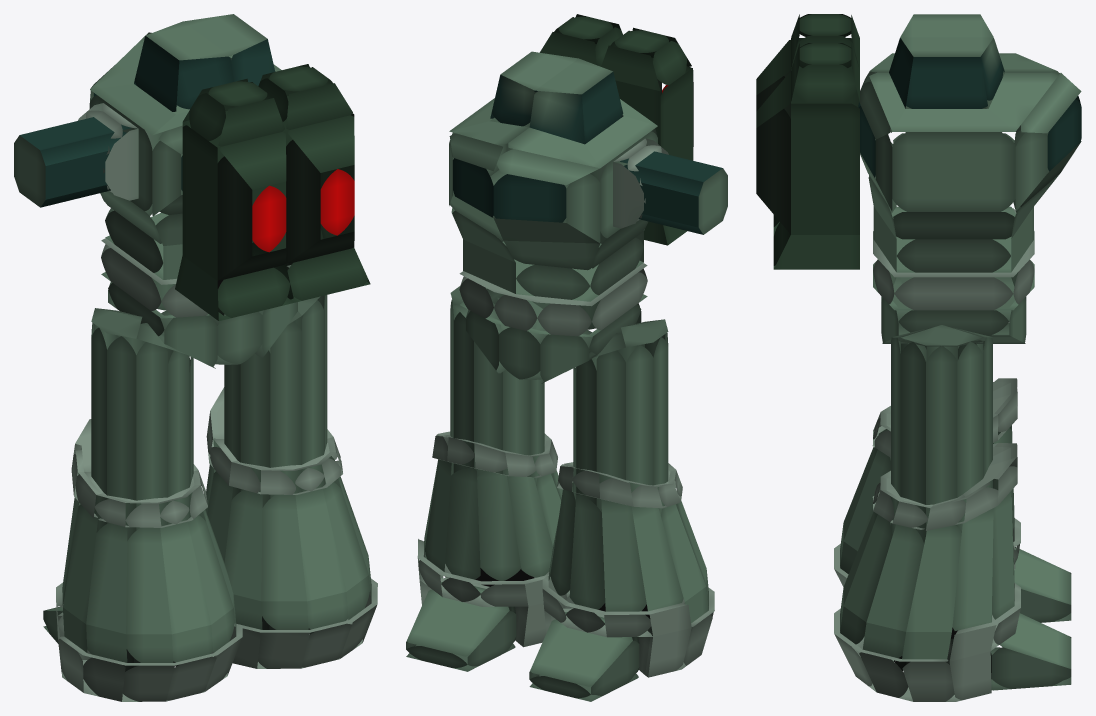
The model's file is BusterBomber Body.obj.
3 views of the same model, side by side, from view 1: azimuth 30°, elevation 25°; view 2: azimuth 150°, elevation 25°; view 3: azimuth 270°, elevation 25° (orthographic). The views are drawn at different scales.
Visible parts, largest first — view 1: cylinder, cuboid, Body, Pelvis, Arm; view 2: cylinder, Body, Toe, Pelvis, cuboid, Arm; view 3: cylinder, Body, cuboid, Pelvis, Toe.
Boxes of the visible parts, <box> form: cylinder: <box>56,103,377,701</box>; cuboid: <box>175,64,370,320</box>; Body: <box>89,14,281,279</box>; Pelvis: <box>101,238,297,368</box>; Arm: <box>14,117,130,207</box>; cylinder: <box>417,138,714,677</box>; Body: <box>449,51,657,301</box>; Toe: <box>406,582,639,701</box>; Pelvis: <box>459,263,647,383</box>; cuboid: <box>540,14,693,245</box>; Arm: <box>620,151,727,234</box>; cylinder: <box>834,106,1020,701</box>; Body: <box>858,14,1081,272</box>; cuboid: <box>756,14,859,269</box>; Pelvis: <box>873,208,1034,343</box>; Toe: <box>990,547,1071,690</box>.
Size of the model in its own units: 0.6597 by 1.2 by 0.5891.
Materials: 1 (1 with a texture image).
